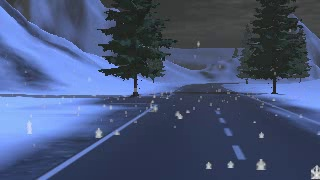Lane: (45, 82, 319, 178)
